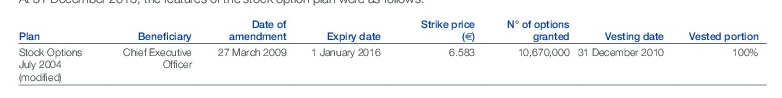table: (0, 0, 782, 98)
